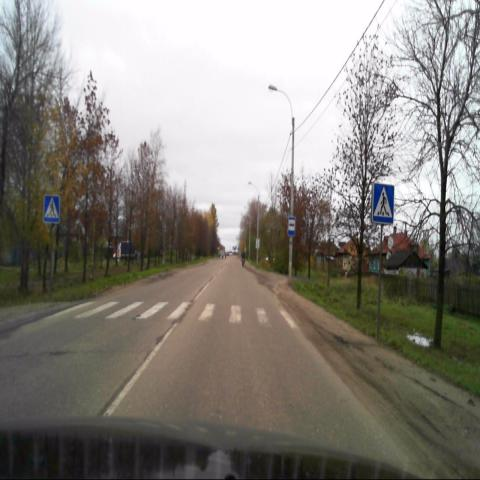5_16: (288, 216, 295, 235)
5_19_1: (372, 183, 394, 224), (44, 195, 60, 223)
